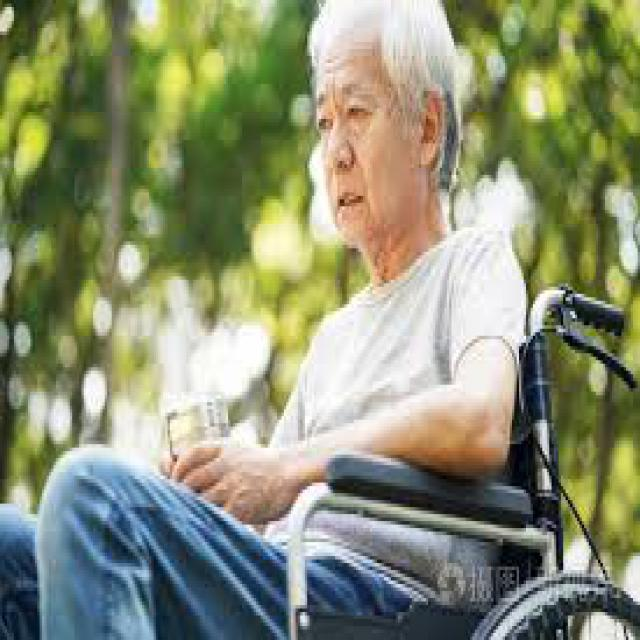wheelchairs: (177, 284, 638, 636)
